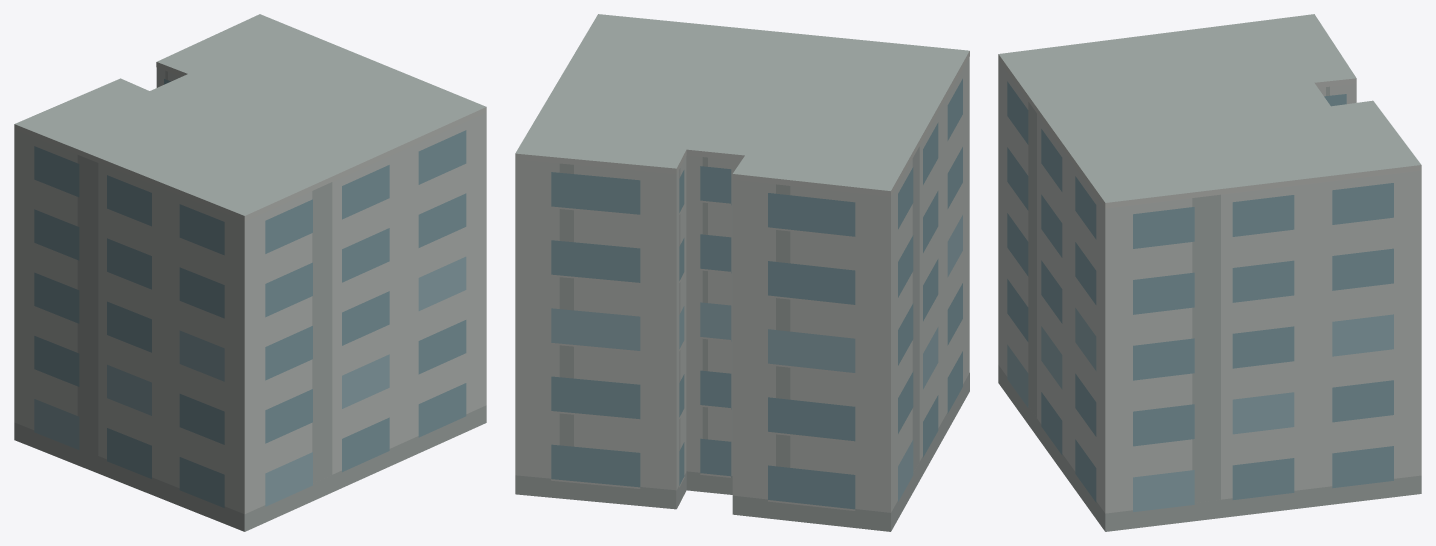
Rendered from survey-upis-32967839.glb.
3 renders of one model, left to right at view 1: azimuth 30°, elevation 25°; view 2: azimuth 150°, elevation 25°; view 3: azimuth 270°, elevation 25°, orthographic. The views are drawn at different scales.
Visible parts, largest first — view 1: survey-upis-32967839.tmp; view 2: survey-upis-32967839.tmp; view 3: survey-upis-32967839.tmp.
Part boxes in pixels (<box>): survey-upis-32967839.tmp: <box>14,14,486,531</box>; survey-upis-32967839.tmp: <box>515,14,969,531</box>; survey-upis-32967839.tmp: <box>998,14,1421,531</box>.
Bounding box in the file's own units: 17.63 × 14.3 × 16.68.
